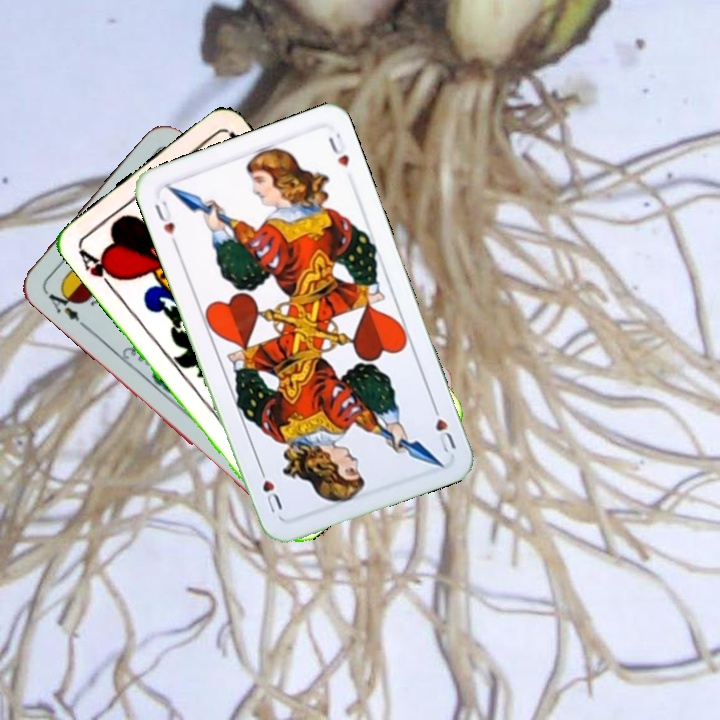EA: (44, 284, 88, 330)
HA: (74, 243, 123, 294)
HU: (428, 399, 459, 456), (150, 196, 180, 249)
